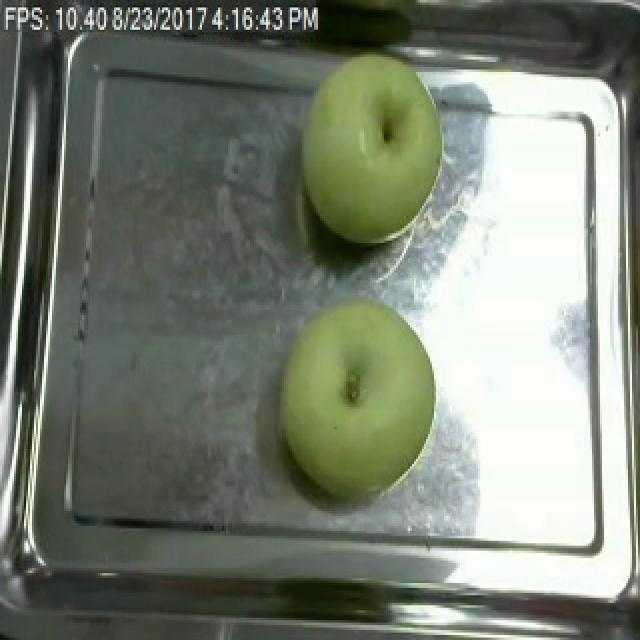50-_ripeness: (272, 293, 451, 511), (292, 43, 457, 243)
